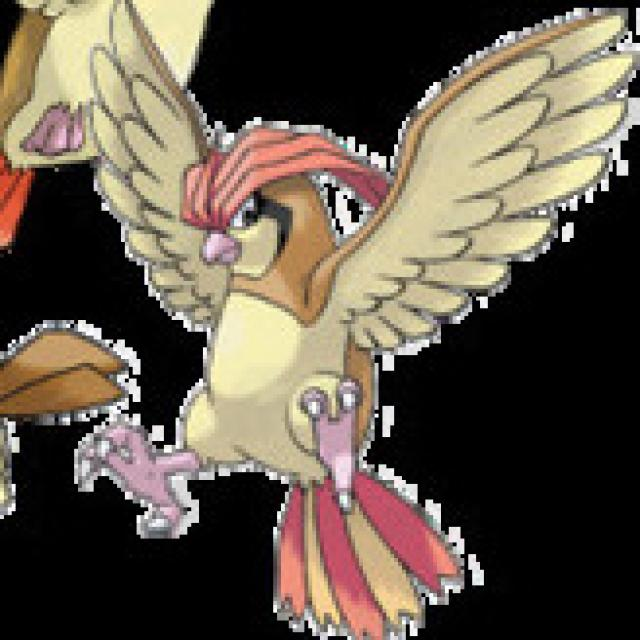Pidgeotto: (116, 68, 444, 583)
